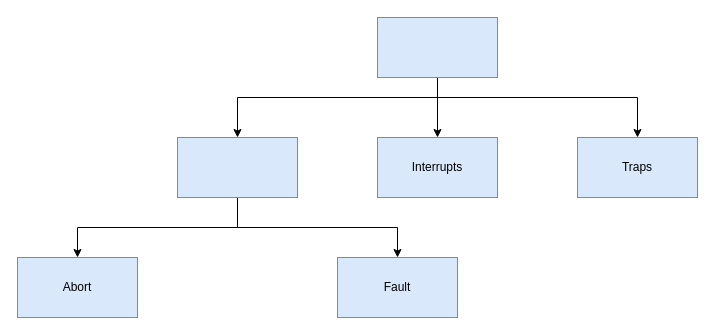
This 715x335 diagram has some shape labels left out. Each missing label, with the centre of its shape:
"Events" belongs at [437,47].
"Exceptions" belongs at [237,167].
